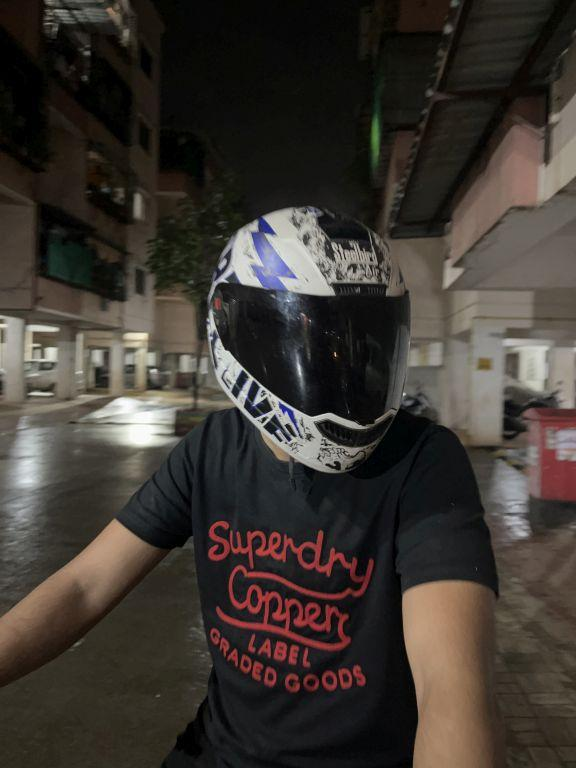helmet: (199, 194, 421, 483)
